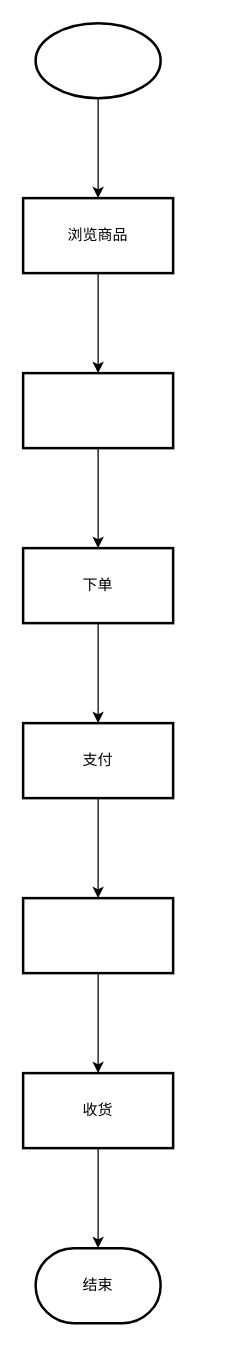
The diagram is 239 pixels wide and 1345 high, and some of its shapes have lost their labels. Each missing label, with the centre of its shape:
"加购" belongs at (x=97, y=410).
"发货" belongs at (x=97, y=935).
"开始" belongs at (x=97, y=60).
